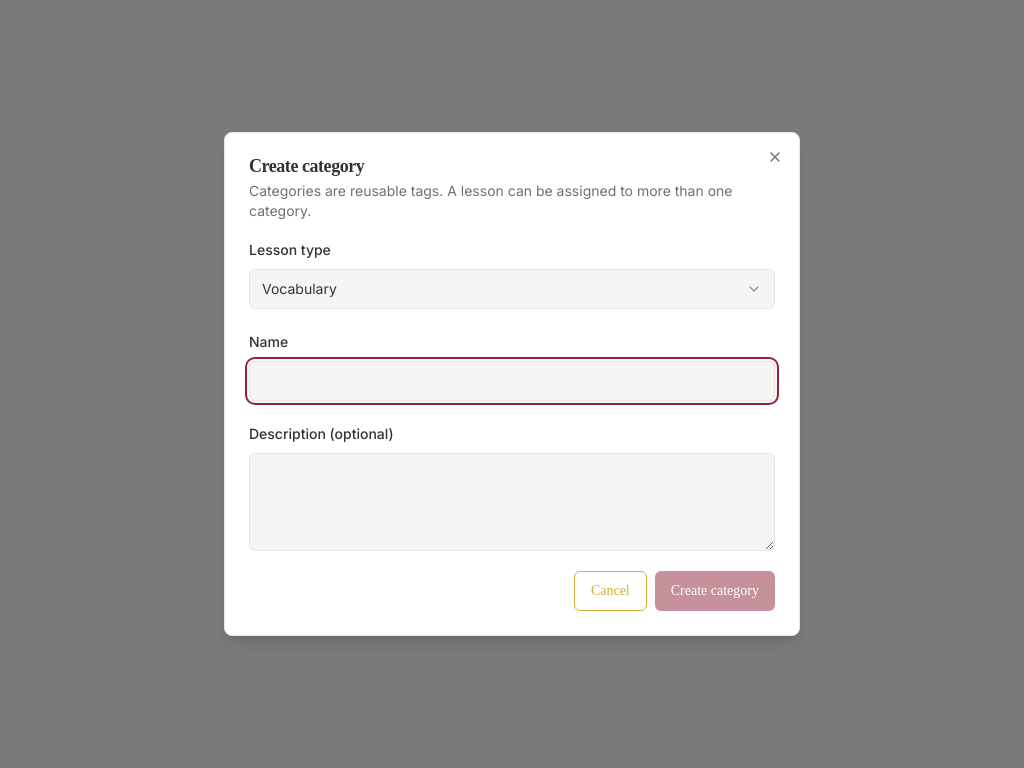
Test: practice category lesson controls › keeps category form values open and focuses the inline field error after a name conflict
Type "Authors" into the field labelled "Name" at [512, 381], box [249, 361, 775, 401]
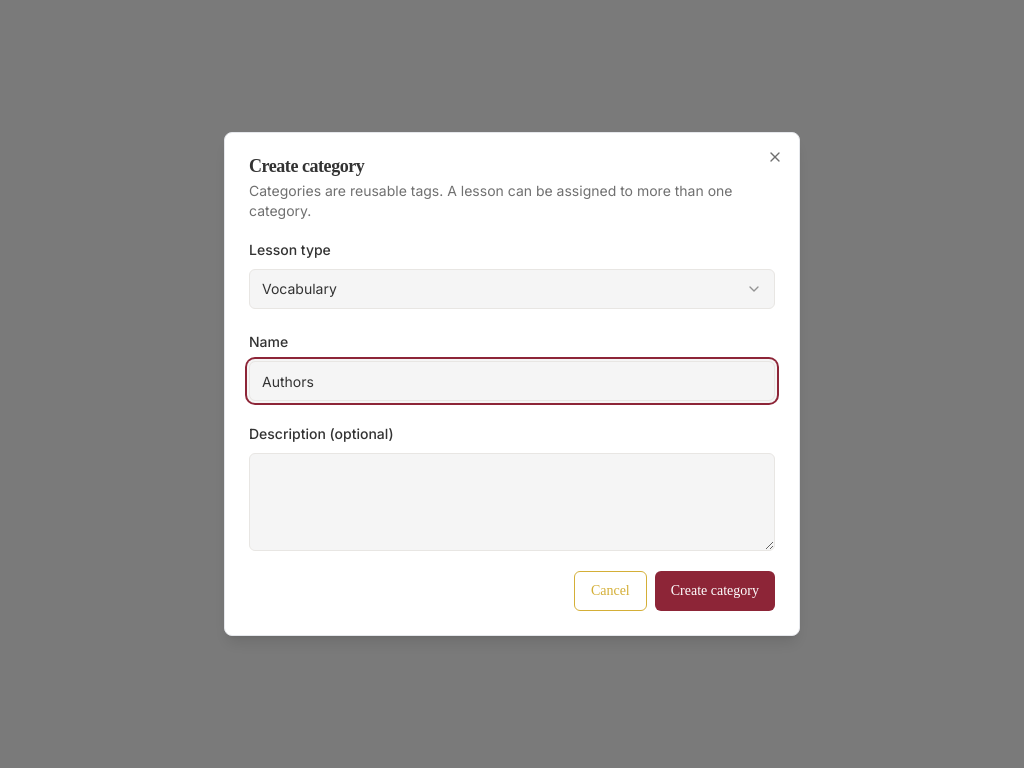
Click the button "Create category" at [715, 591], box [655, 571, 775, 611]
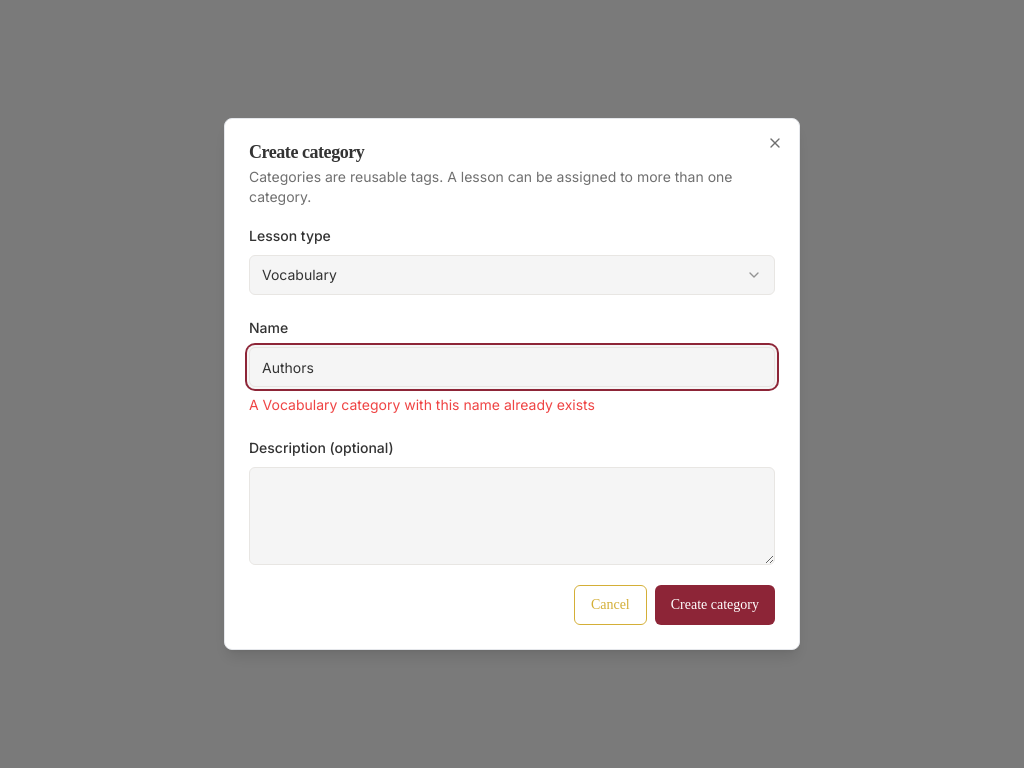
Now the message reads "A Vocabulary category with this name already exists", box [249, 396, 595, 413]
